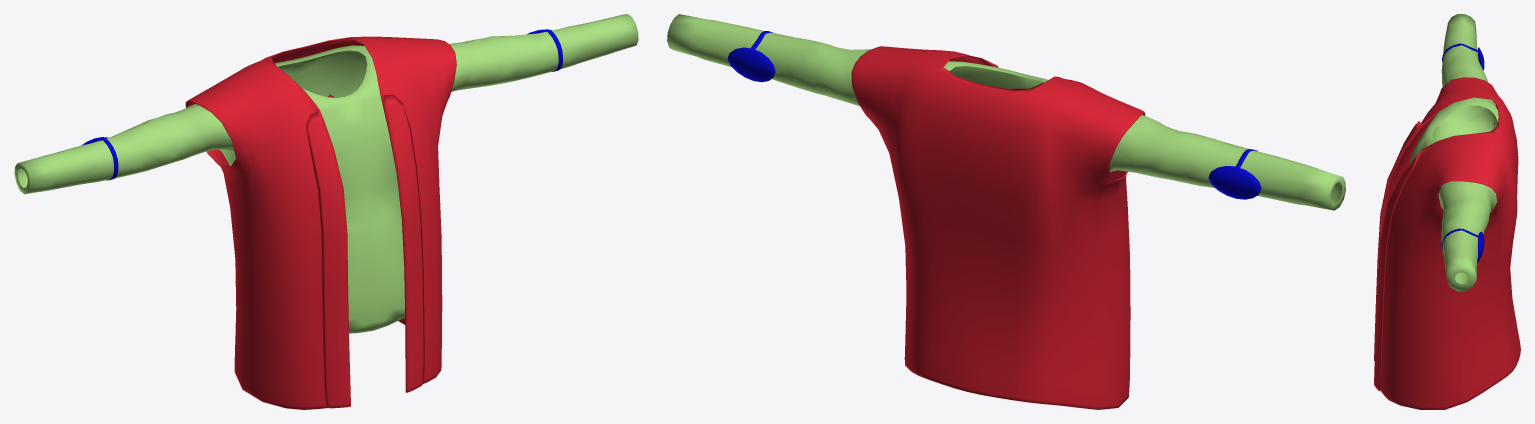
The model's file is Weste.fbx.
3 renders of one model, left to right at view 1: azimuth 30°, elevation 25°; view 2: azimuth 150°, elevation 25°; view 3: azimuth 270°, elevation 25°, orthographic. The views are drawn at different scales.
Parts seen in each view (by area): view 1: human_male_tpose.001; view 2: human_male_tpose.001; view 3: human_male_tpose.001.
Part boxes in pixels (x1,y1,x2,y2): human_male_tpose.001: [14, 14, 638, 409]; human_male_tpose.001: [667, 14, 1345, 409]; human_male_tpose.001: [1374, 14, 1520, 409].
Bounding box in the file's own units: 476 × 227 × 117.
